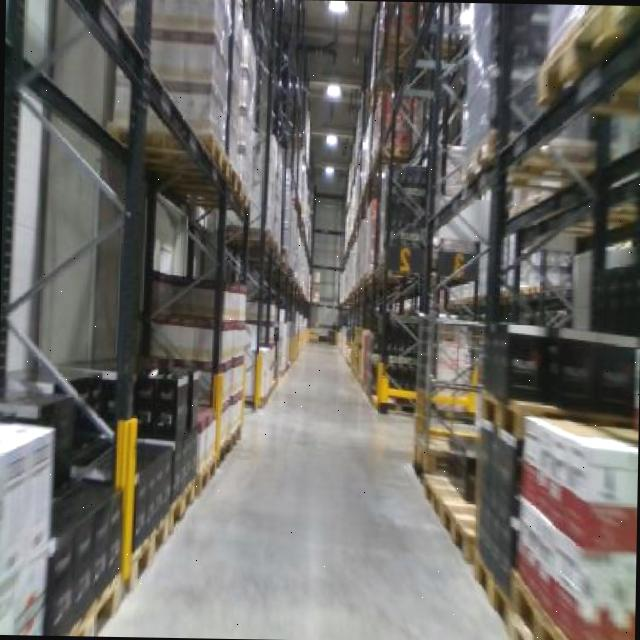pallet: (423, 496, 514, 560), (416, 471, 492, 522), (128, 506, 174, 584), (154, 473, 199, 538), (195, 130, 238, 178)
